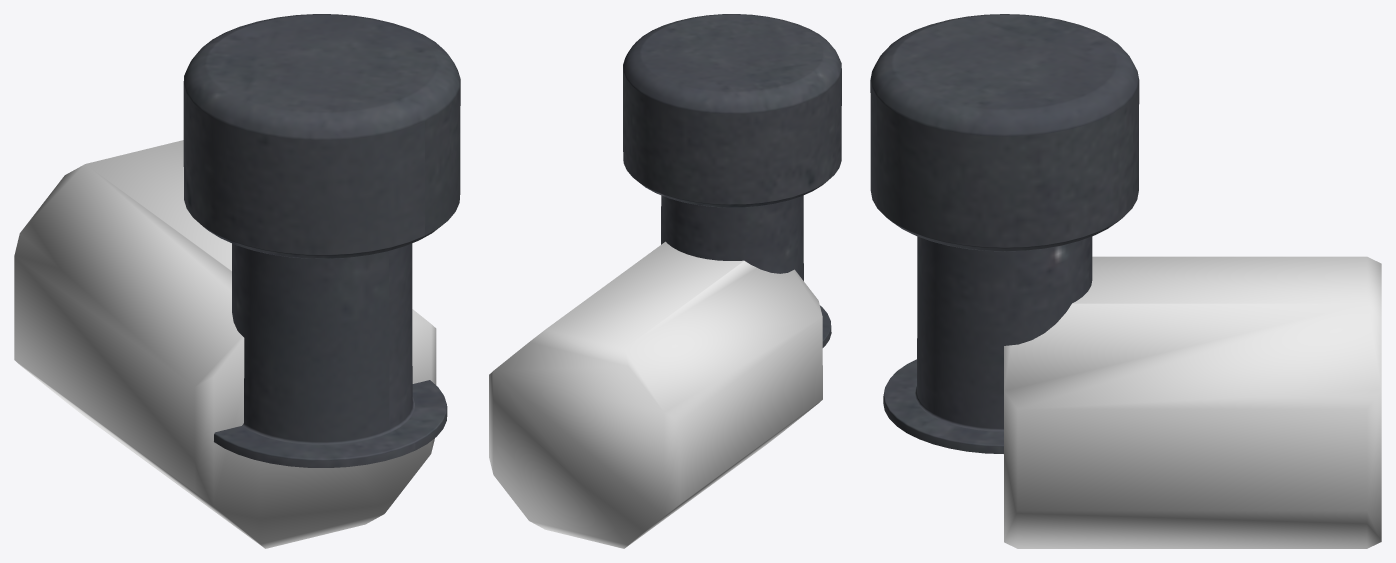
Rendered from SM_Antenna_Small.fbx.
3 views of the same model, side by side, from view 1: azimuth 30°, elevation 25°; view 2: azimuth 150°, elevation 25°; view 3: azimuth 270°, elevation 25° (orthographic). The views are drawn at different scales.
Parts seen in each view (by area): view 1: SM_Antenna_Small, SM_Antenna_Small_ConvexHulls; view 2: SM_Antenna_Small_ConvexHulls, SM_Antenna_Small; view 3: SM_Antenna_Small_ConvexHulls, SM_Antenna_Small.
Part boxes in pixels (x1,y1,x2,y2): SM_Antenna_Small: (183,14,460,467); SM_Antenna_Small_ConvexHulls: (14,140,436,548); SM_Antenna_Small_ConvexHulls: (489,241,822,548); SM_Antenna_Small: (623,14,841,347); SM_Antenna_Small_ConvexHulls: (1004,256,1381,548); SM_Antenna_Small: (870,14,1139,453).
Size of the model in its own units: 0.3398 by 0.6422 by 0.6421.
